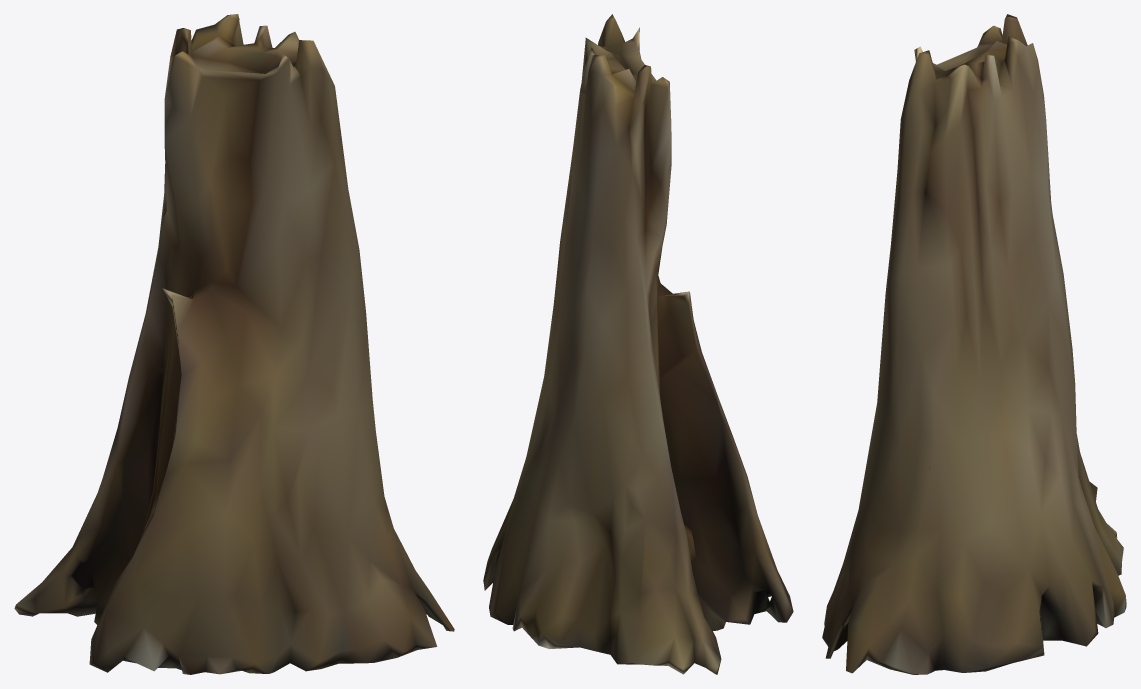
The picture shows the model from 3 angles, left to right: view 1: azimuth 30°, elevation 25°; view 2: azimuth 150°, elevation 25°; view 3: azimuth 270°, elevation 25°; orthographic projection. The views are drawn at different scales.
Visible parts, largest first — view 1: stump-spruce-edge; view 2: stump-spruce-edge; view 3: stump-spruce-edge.
Boxes of the visible parts, <box> form: stump-spruce-edge: <box>14,14,454,674</box>; stump-spruce-edge: <box>483,14,793,674</box>; stump-spruce-edge: <box>822,14,1126,674</box>.
Size of the model in its own units: 0.6715 by 1.2 by 0.5782.
